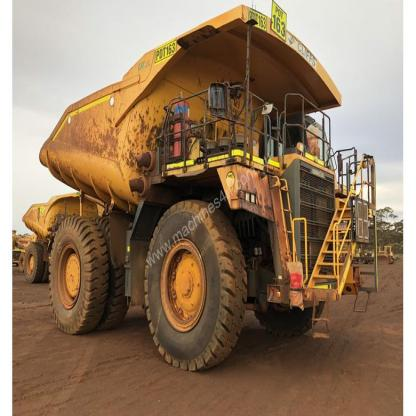dump_truck: (49, 5, 363, 356)
